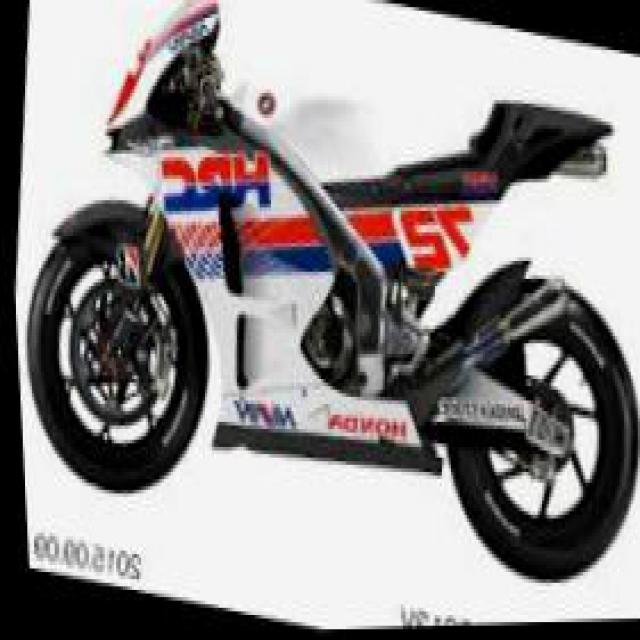HRC RCV 213: (0, 0, 638, 626)
